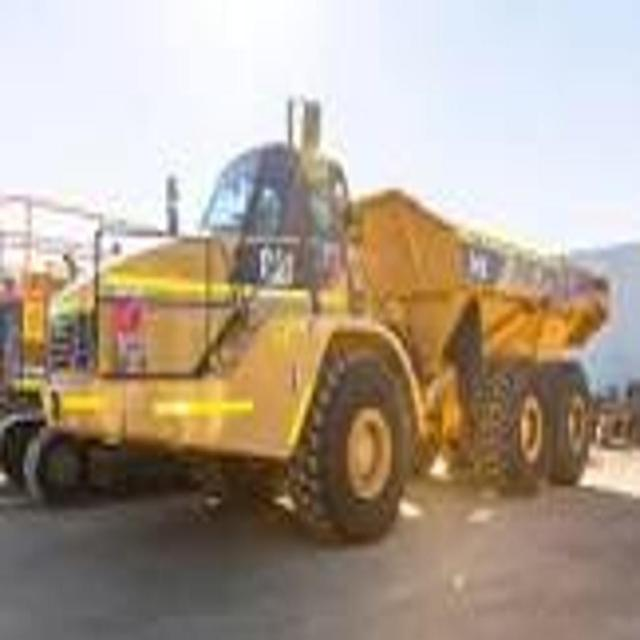dump_truck: (46, 94, 604, 548)
